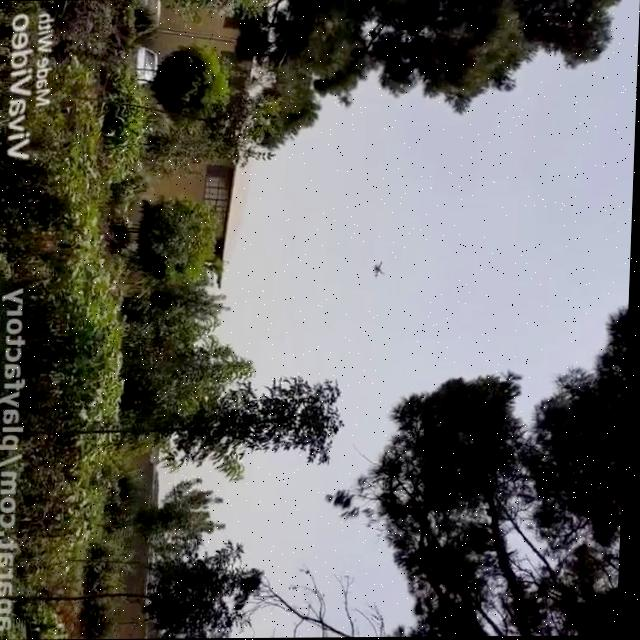drone: (370, 256, 394, 280)
